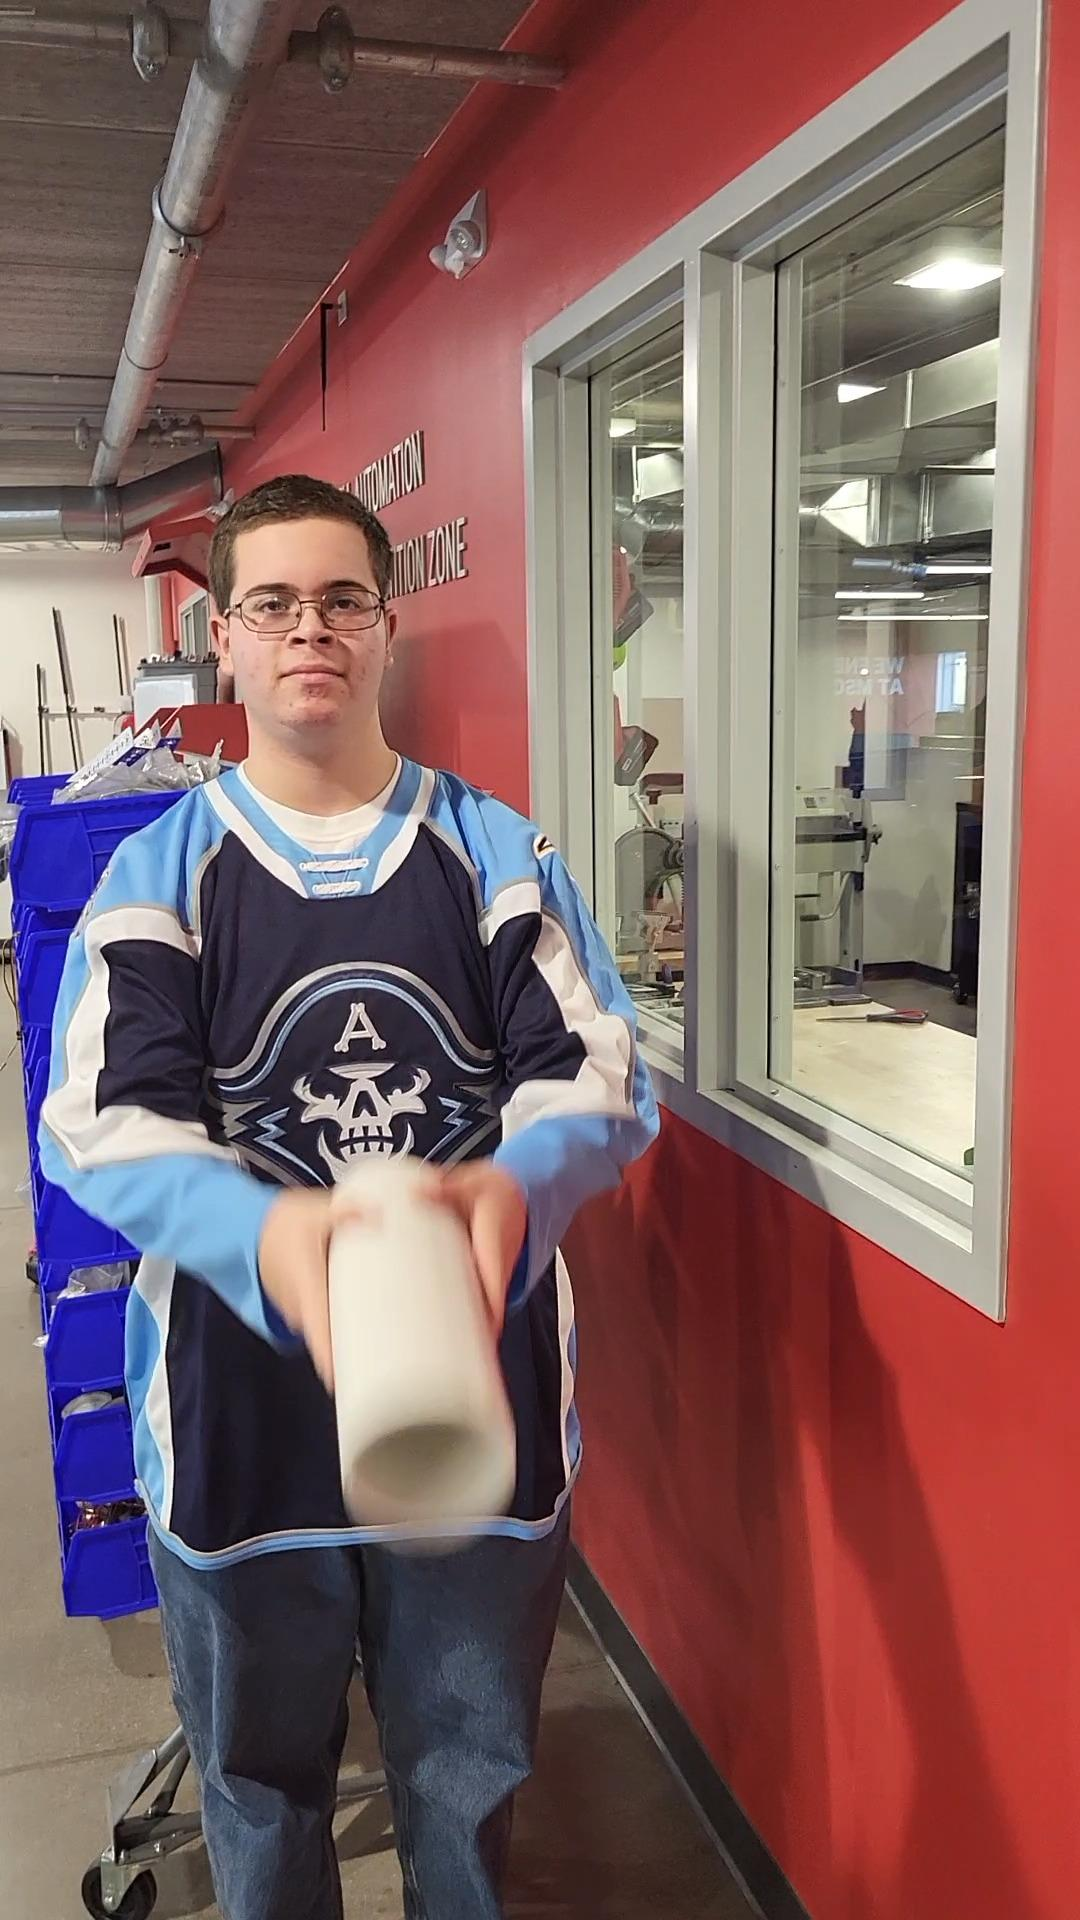coral: (307, 1147, 537, 1543)
